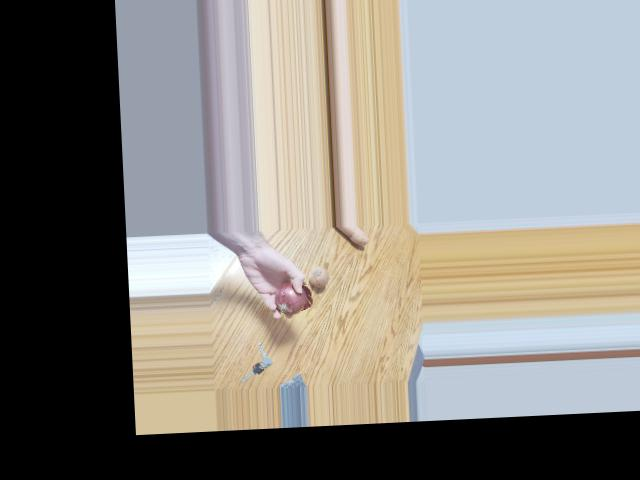onion: (299, 265, 332, 288)
